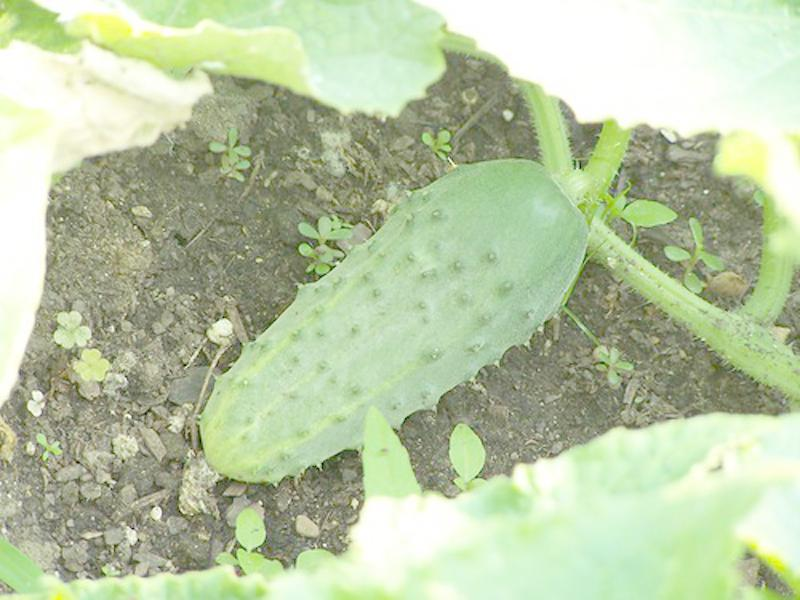Cucumber: (200, 157, 590, 482)
